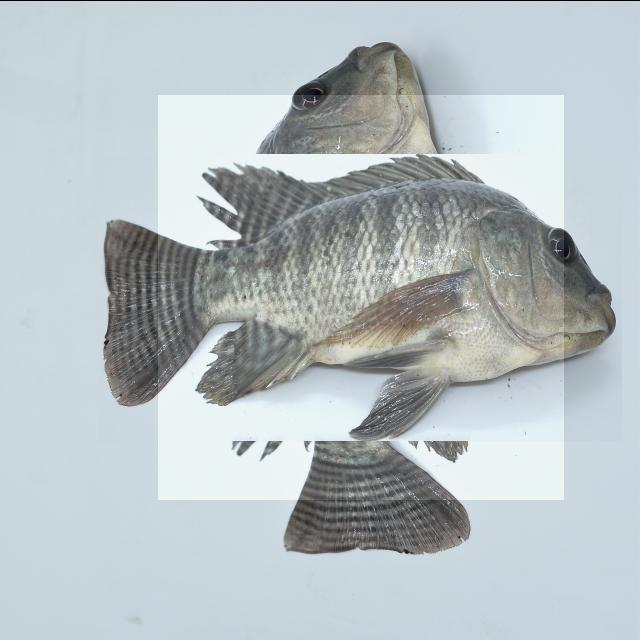Healthy Fish: (158, 94, 564, 499)
